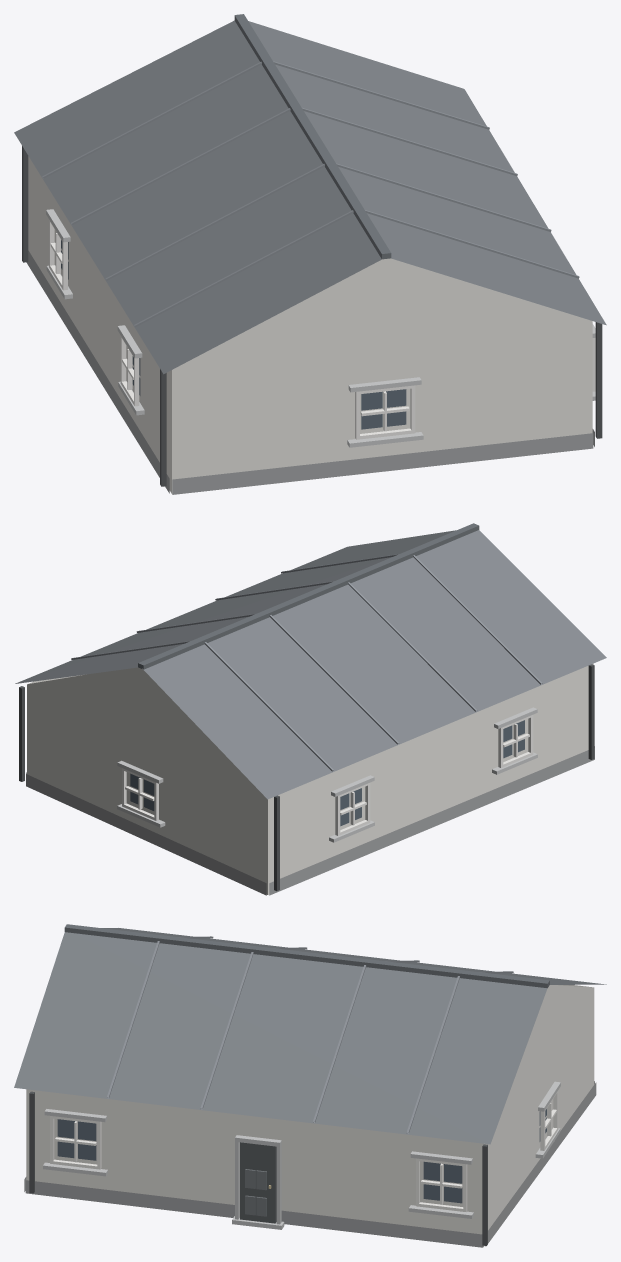
The picture shows the model from 3 angles, top to bottom: view 1: azimuth 30°, elevation 25°; view 2: azimuth 150°, elevation 25°; view 3: azimuth 270°, elevation 25°; orthographic projection. The views are drawn at different scales.
Visible parts, largest first — view 1: slate, harl, plinth, slate_lt, frame, slate_dk, pipe, stone_band; view 2: slate, harl, plinth, slate_lt, slate_dk, frame, stone_band, pipe; view 3: slate, harl, plinth, slate_dk, stone_band, frame, slate_lt, door_dark, pipe, door_dark_p.
Boxes of the visible parts, x1,y1,x2,y2 form: slate: (14,20,606,374); harl: (28,156,592,493); plinth: (26,250,594,494); slate_lt: (42,61,579,327); frame: (49,219,595,439); slate_dk: (234,14,391,259); pipe: (22,146,602,486); stone_band: (46,209,595,447); slate: (15,530,606,799); harl: (27,663,593,894); plinth: (26,746,594,895); slate_lt: (71,554,542,771); slate_dk: (138,523,479,669); frame: (122,715,533,835); stone_band: (117,707,537,842); pipe: (19,664,594,891); slate: (14,928,606,1144); harl: (26,985,594,1246); plinth: (24,1081,596,1247); slate_dk: (64,924,549,988); stone_band: (43,1081,560,1229); frame: (50,1090,558,1211); slate_lt: (107,936,513,1133); door_dark: (240,1142,276,1223); pipe: (29,1091,487,1245); door_dark_p: (245,1169,266,1216).
Size of the model in its own units: 12.29 by 5.06 by 14.22.
